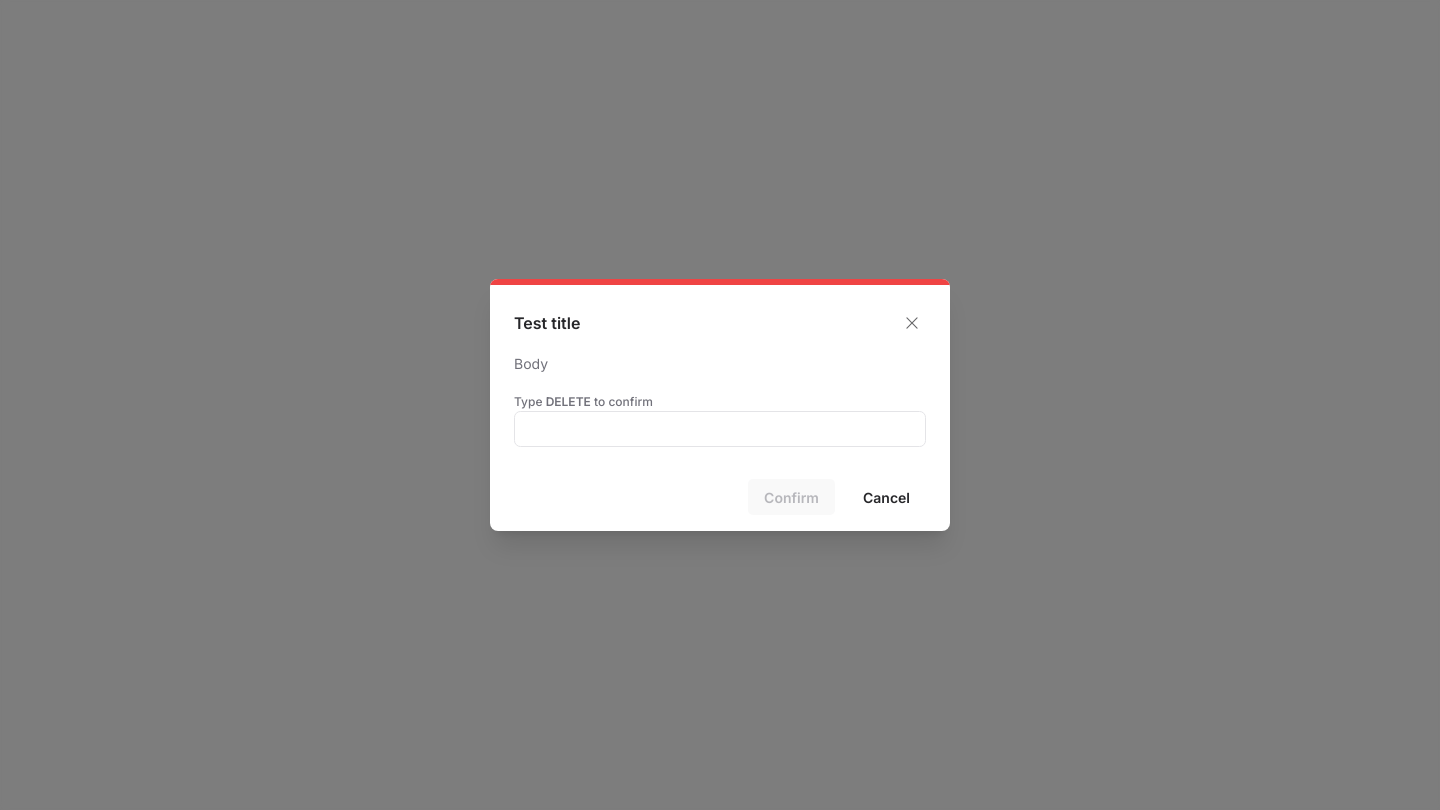
Test case: AlertDialogComposed › confirm button enabled when input matches
Type "DELETE" into the field at (720, 429), box [514, 411, 926, 447]
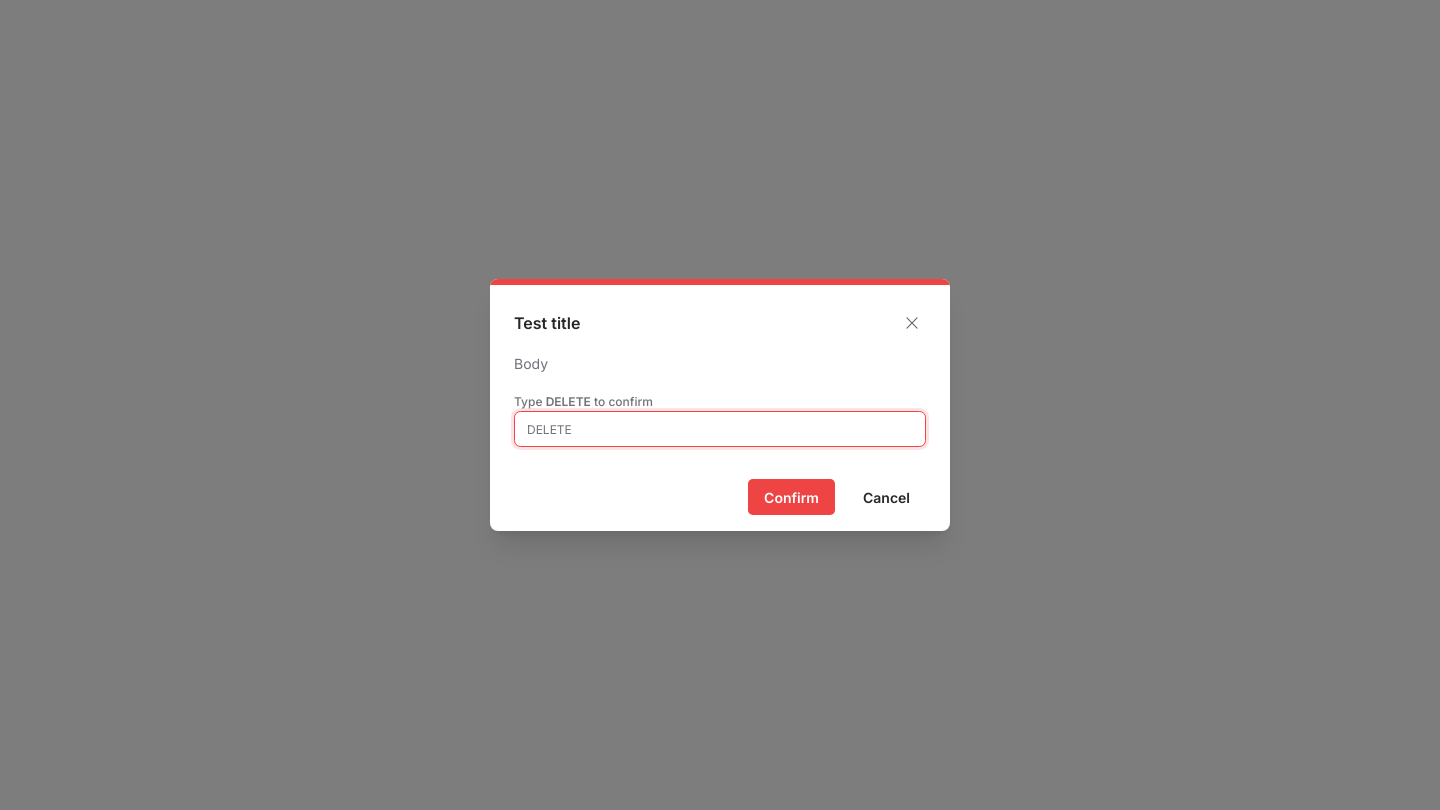
Result: the button "Confirm" is enabled at [748, 479, 835, 515]
